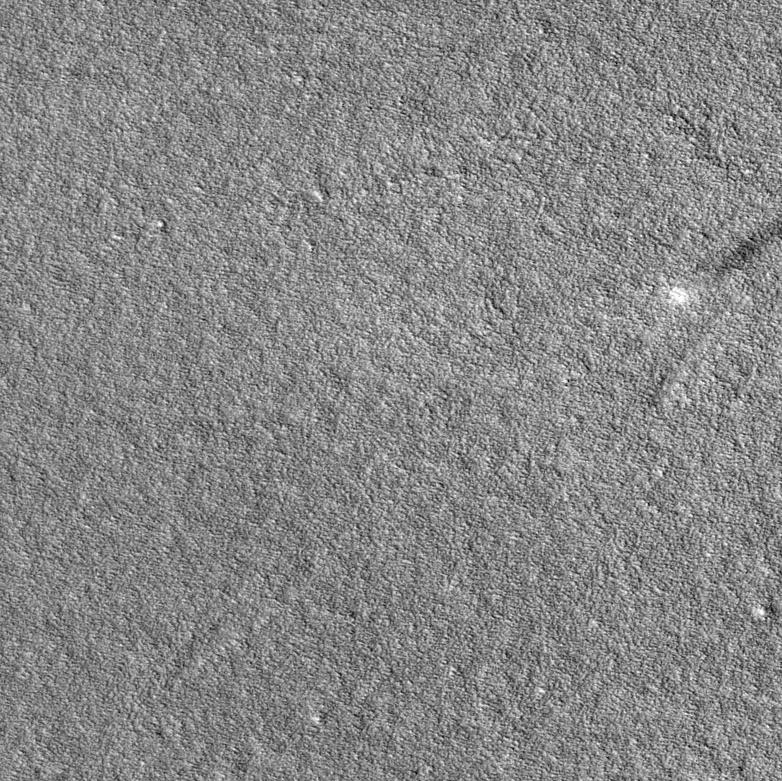dust_devil: (666, 208, 782, 309)
